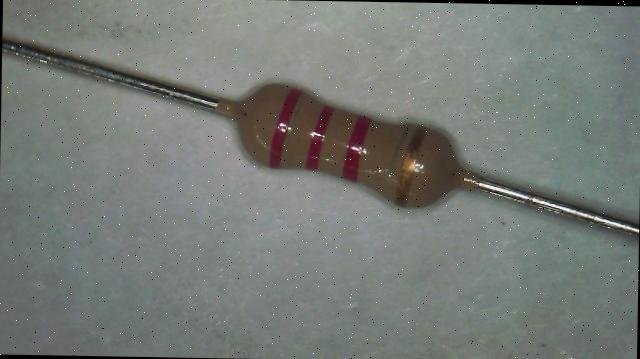gold: (396, 125, 424, 204)
red: (269, 88, 300, 168), (342, 114, 371, 180), (306, 104, 332, 169)
resistor: (204, 46, 495, 252)
